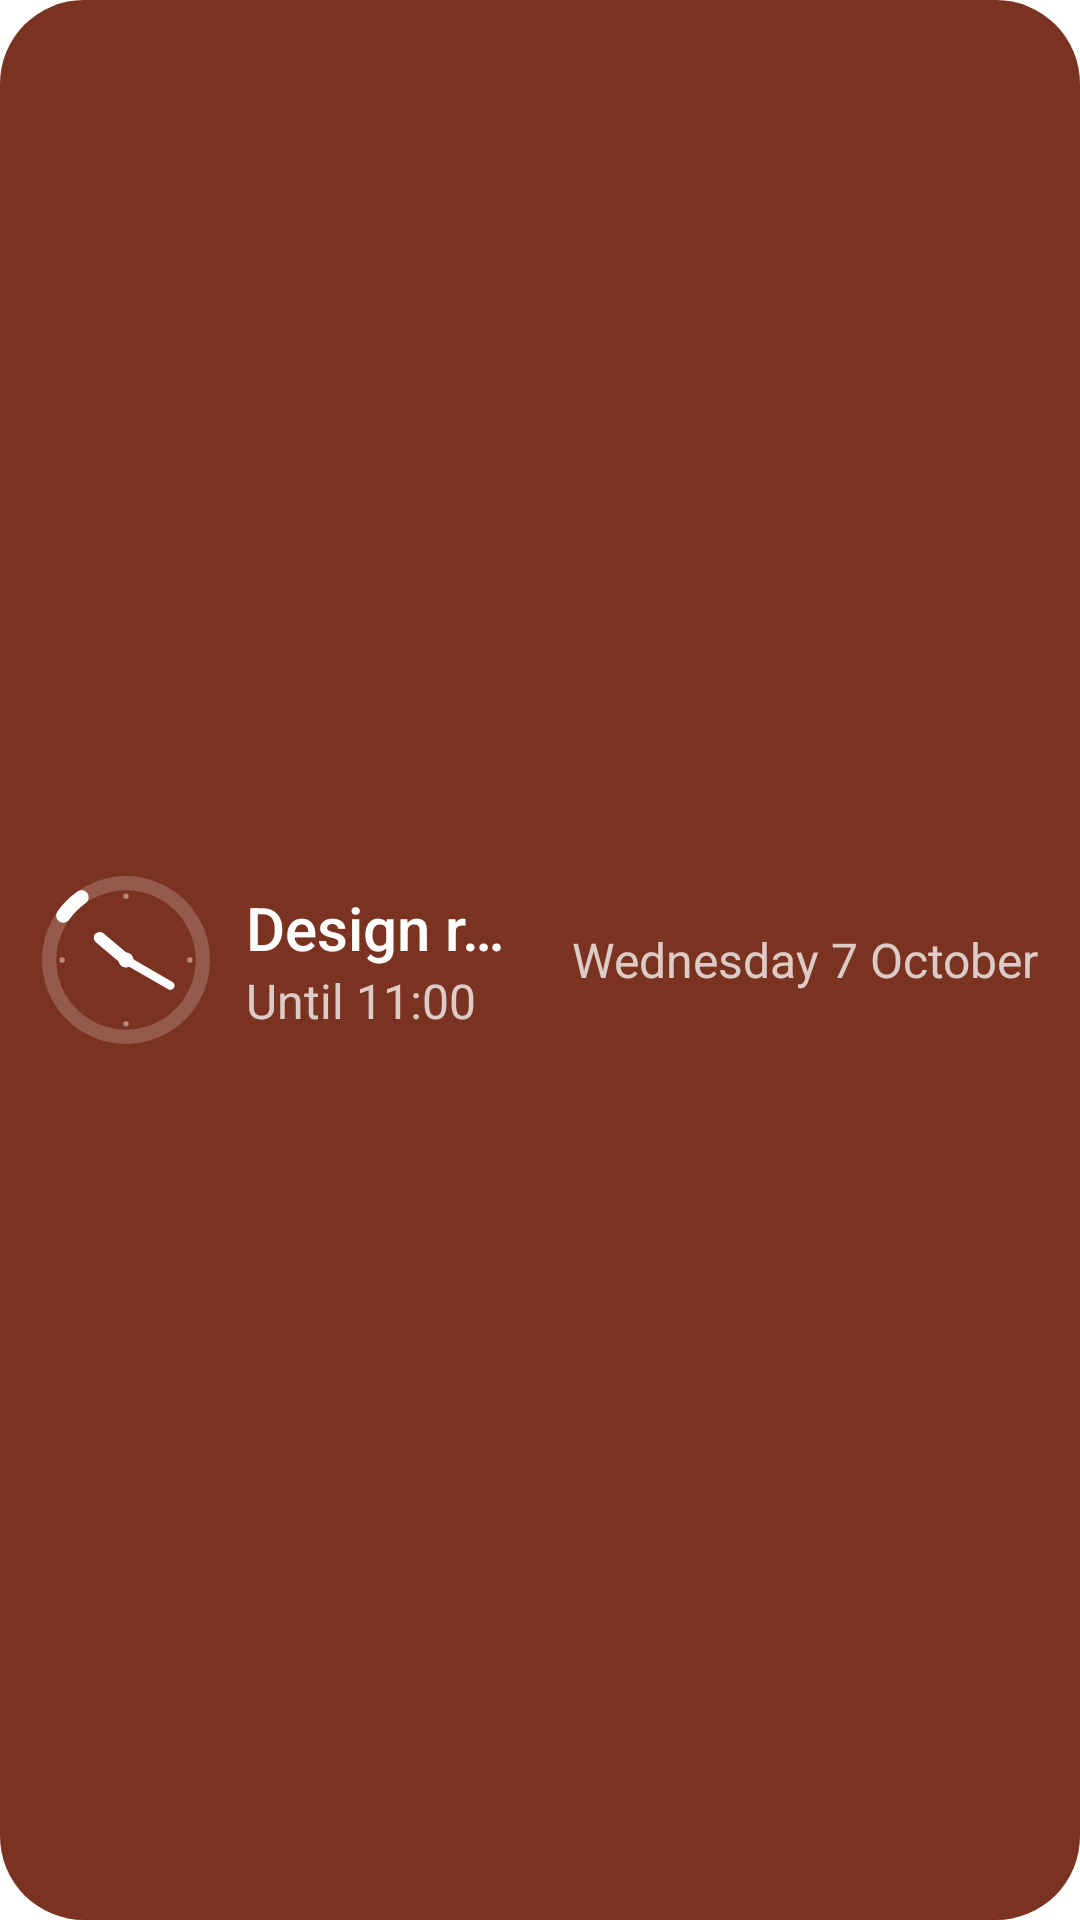

Icon click points for this 1080w x 1920h phone screenshot, format [x,y]:
widget dial: [126,960]
